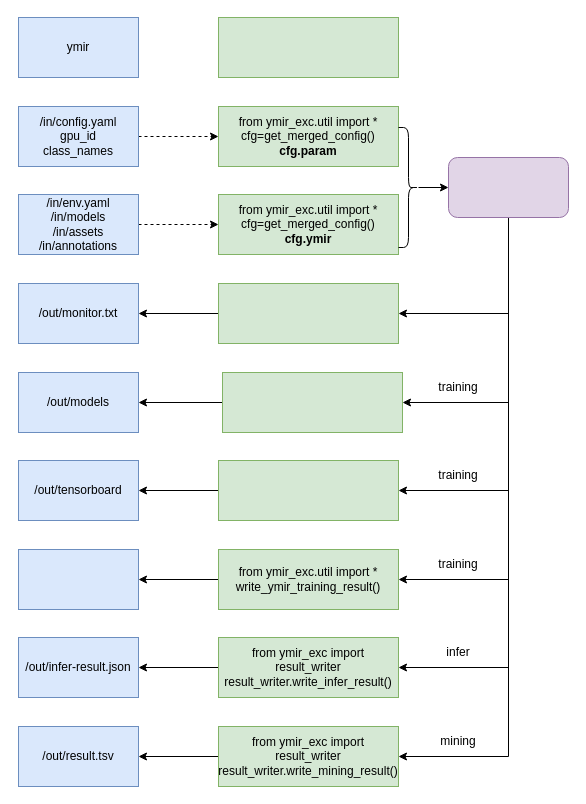
Some shapes in this 586 by 804 pixel diagram are drawn without their labels. The centre of each missing label's shape, as x and y in pixels:
"/out/models/result.yaml" belongs at point (78, 579).
"from ymir_exc import monitor monitor.write_monitor_logger()" belongs at point (308, 313).
"from ymir_exc.util import * cfg=get_merged_config() cfg.ymir.models_dir" belongs at point (312, 402).
"from ymir_exc.util import * cfg=get_merged_config() cfg.ymir.tensorboard_dir" belongs at point (308, 490).
"sdk: ymir_exc" belongs at point (308, 47).
"user code" belongs at point (508, 187).
